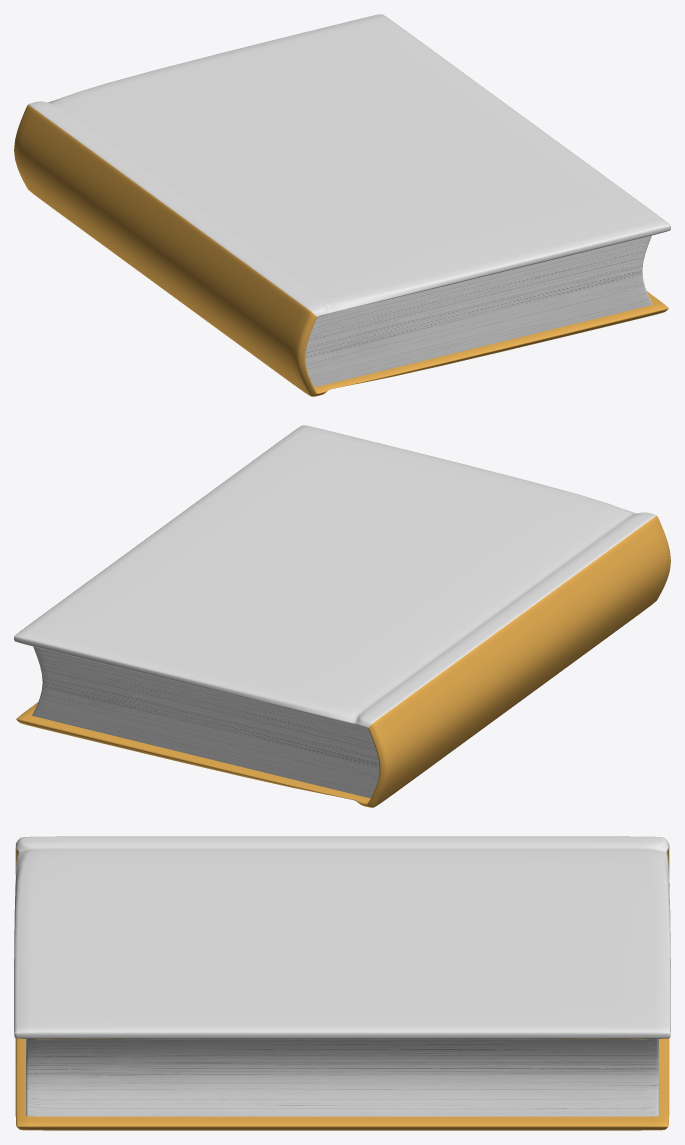
The model's file is book-mockup.glb.
3 renders of one model, top to bottom at view 1: azimuth 30°, elevation 25°; view 2: azimuth 150°, elevation 25°; view 3: azimuth 270°, elevation 25°, orthographic. The views are drawn at different scales.
Parts seen in each view (by area): view 1: Cube, Cube.001; view 2: Cube, Cube.001; view 3: Cube, Cube.001.
Part boxes in pixels (x1,y1,x2,y2): Cube: (14,14,670,396); Cube.001: (305,235,652,387); Cube: (14,425,670,807); Cube.001: (32,646,379,798); Cube: (14,836,670,1130); Cube.001: (26,1039,658,1116).
Size of the model in its own units: 0.9766 by 0.2285 by 1.32.
Materials: 5 (1 with a texture image).
